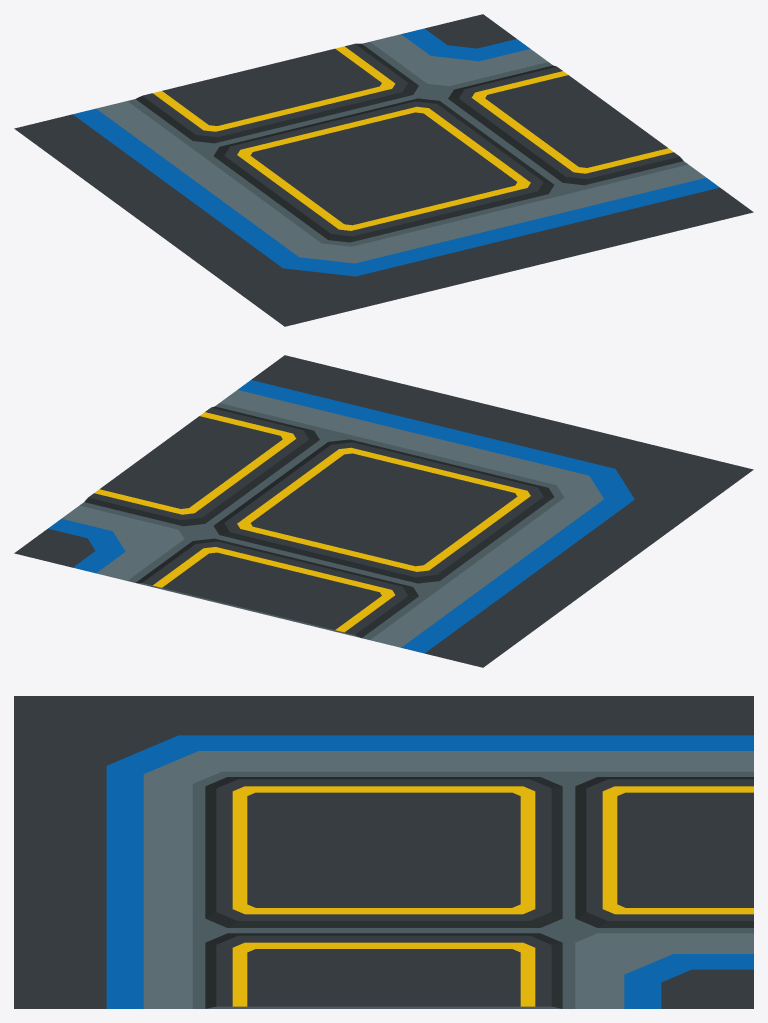
The model's file is Floor_type_C_030.fbx.
3 views of the same model, one above another, from view 1: azimuth 30°, elevation 25°; view 2: azimuth 150°, elevation 25°; view 3: azimuth 270°, elevation 25° (orthographic). The views are drawn at different scales.
Visible parts, largest first — view 1: Floor_type_C_030; view 2: Floor_type_C_030; view 3: Floor_type_C_030.
Boxes of the visible parts, x1=… form: Floor_type_C_030: x1=14, y1=14, x2=753, y2=326; Floor_type_C_030: x1=14, y1=355, x2=753, y2=667; Floor_type_C_030: x1=14, y1=696, x2=753, y2=1008.
Bounding box in the file's own units: 400 × 400 × 1.34.
